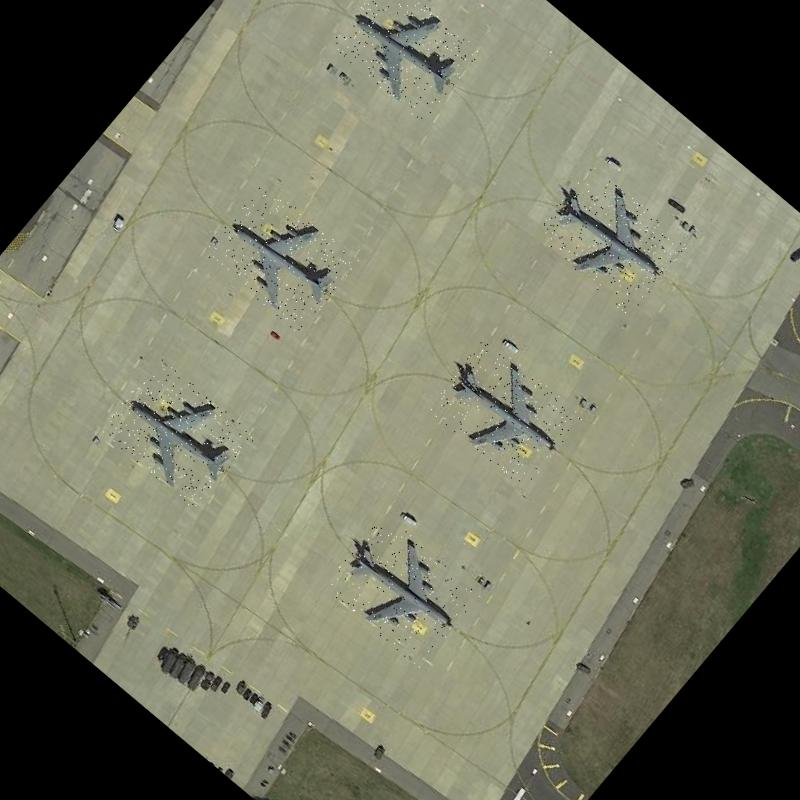A14: (322, 512, 481, 670), (424, 334, 584, 490), (98, 356, 256, 511), (530, 162, 688, 316), (202, 181, 360, 334), (328, 0, 482, 123)
